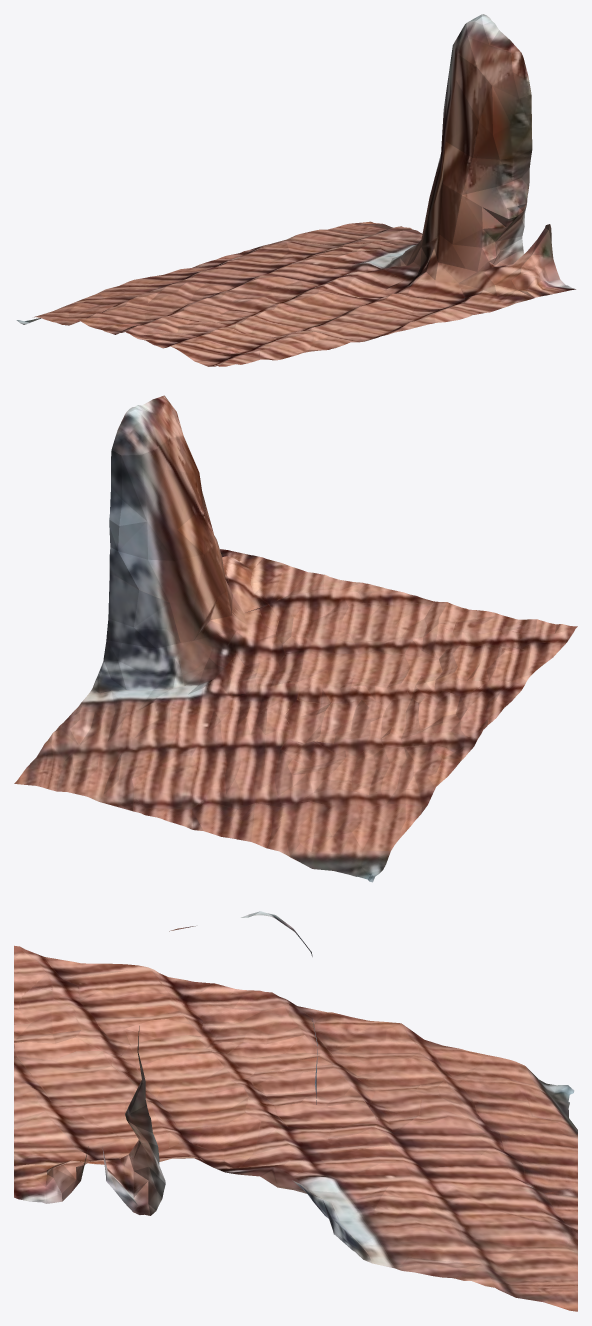
3 views of the same model, one above another, from view 1: azimuth 30°, elevation 25°; view 2: azimuth 150°, elevation 25°; view 3: azimuth 270°, elevation 25° (orthographic). The views are drawn at different scales.
Bounding box in the file's own units: 1.67 × 1.36 × 1.67.
Materials: 3 (3 with a texture image).
